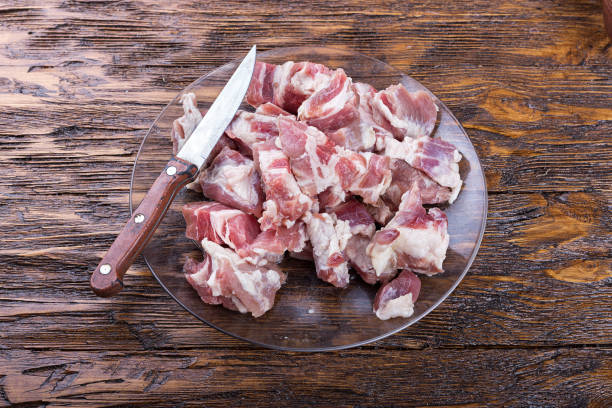bacon: (249, 93, 438, 282)
